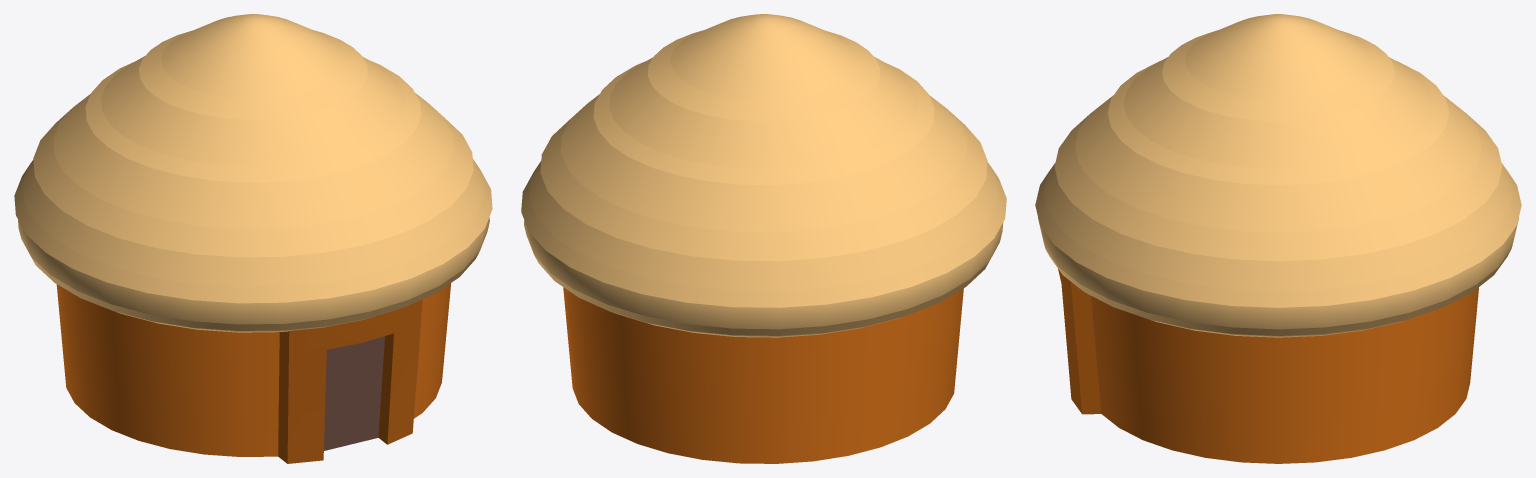
File: hut.glb
The picture shows the model from 3 angles, left to right: view 1: azimuth 30°, elevation 25°; view 2: azimuth 150°, elevation 25°; view 3: azimuth 270°, elevation 25°; orthographic projection.
Visible parts, largest first — view 1: Circle.2346; view 2: Circle.2346; view 3: Circle.2346.
Part boxes in pixels (x1=…): Circle.2346: x1=14, y1=14, x2=492, y2=463; Circle.2346: x1=521, y1=14, x2=1006, y2=463; Circle.2346: x1=1035, y1=14, x2=1521, y2=463.
Size of the model in its own units: 2.28 by 1.89 by 2.28.
Materials: 1 (1 with a texture image).
